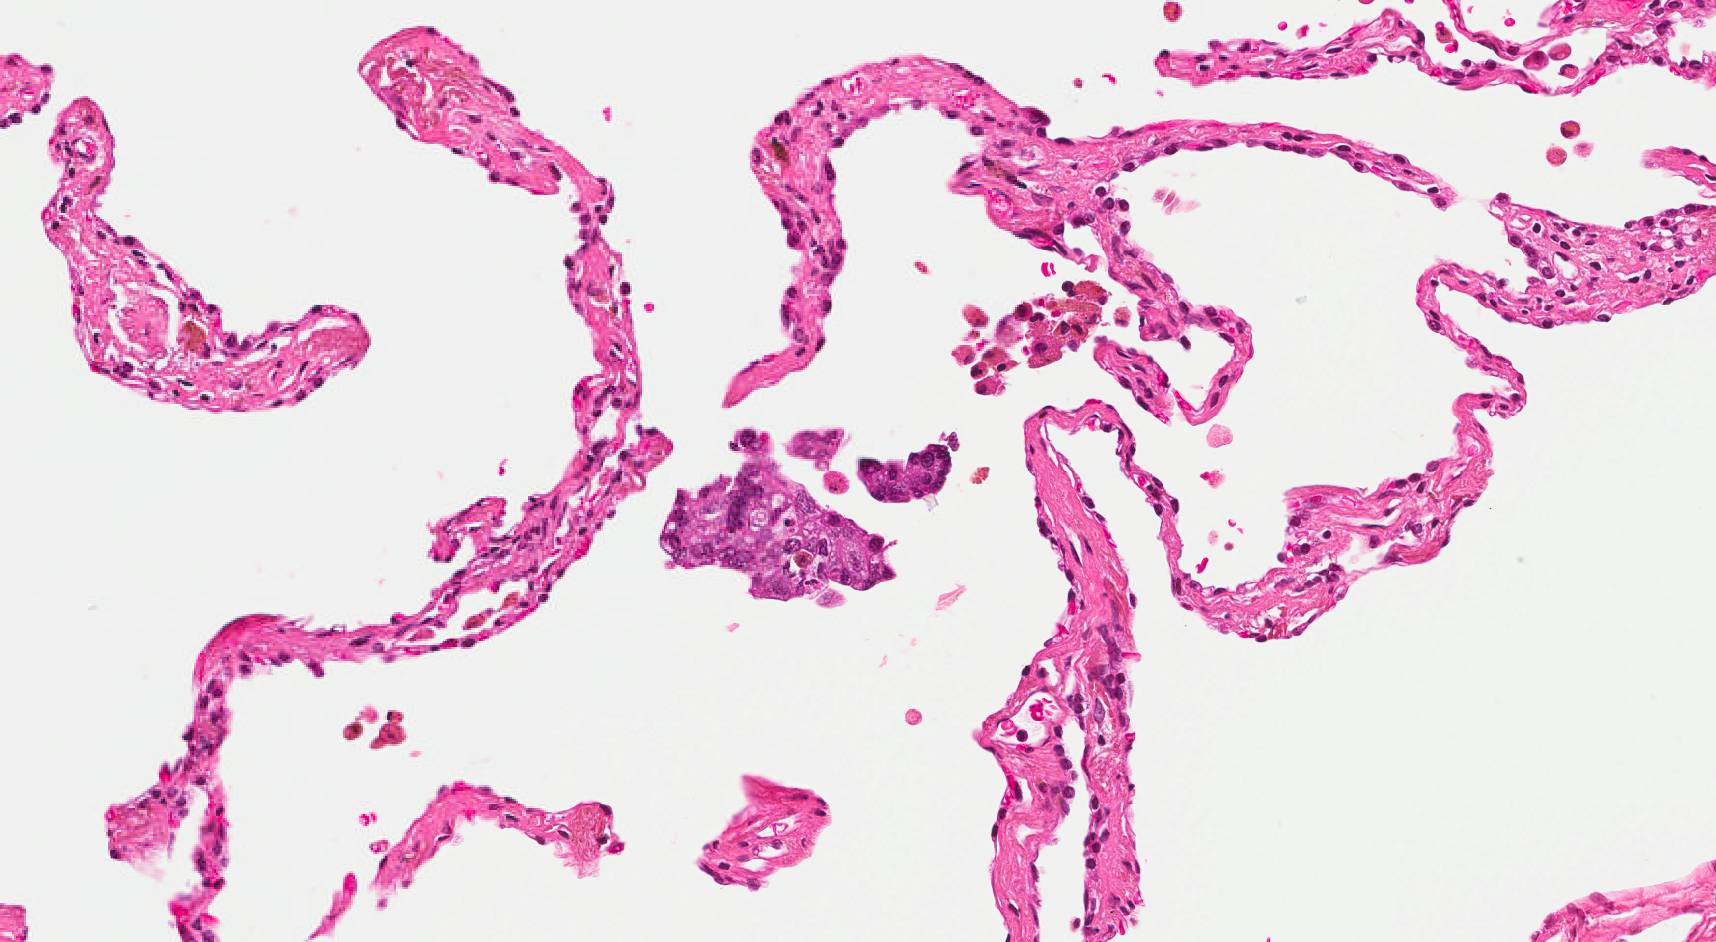stas: (660, 428, 896, 601), (854, 441, 956, 506), (784, 427, 850, 467)
